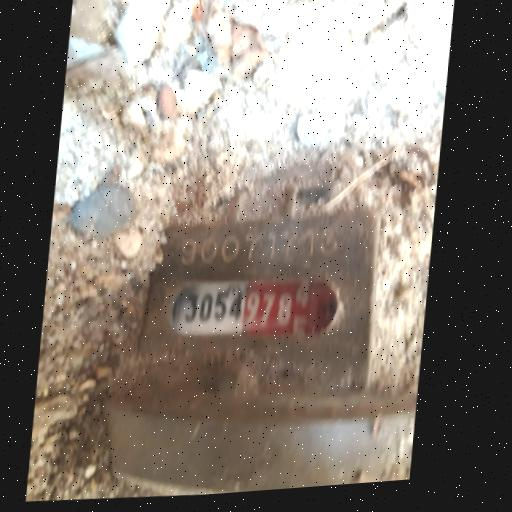0: (194, 281, 216, 336)
3: (178, 281, 202, 335)
4: (290, 278, 316, 333), (224, 280, 248, 336)
5: (206, 280, 232, 336)
7: (257, 279, 279, 333)
8: (272, 278, 296, 332)
9: (242, 280, 263, 335)
border_water_meter_number: (169, 269, 341, 343)
